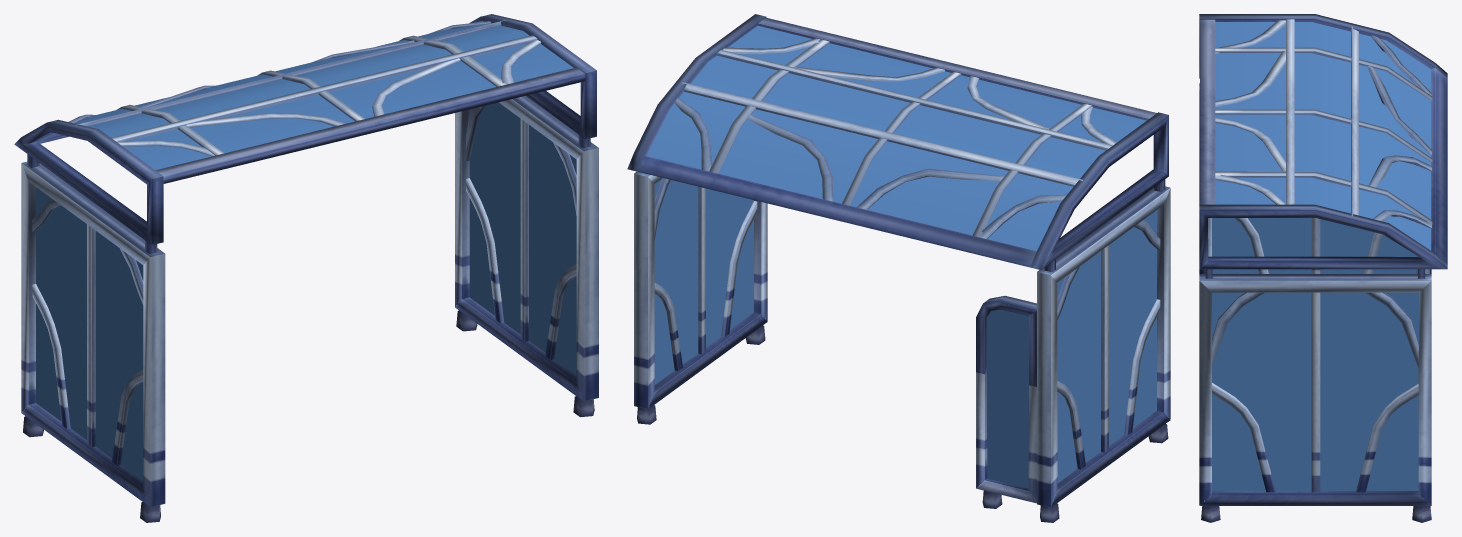
The model's file is a_SEbstop02.glb.
3 views of the same model, side by side, from view 1: azimuth 30°, elevation 25°; view 2: azimuth 150°, elevation 25°; view 3: azimuth 270°, elevation 25° (orthographic). The views are drawn at different scales.
Visible parts, largest first — view 1: a_SEbstop02; view 2: a_SEbstop02; view 3: a_SEbstop02.
Boxes of the visible parts, <box> form: a_SEbstop02: <box>14,14,598,522</box>; a_SEbstop02: <box>627,14,1170,522</box>; a_SEbstop02: <box>1199,14,1447,522</box>.
Bounding box in the file's own units: 4.02 × 2.94 × 2.13.
Materials: 2 (2 with a texture image).
